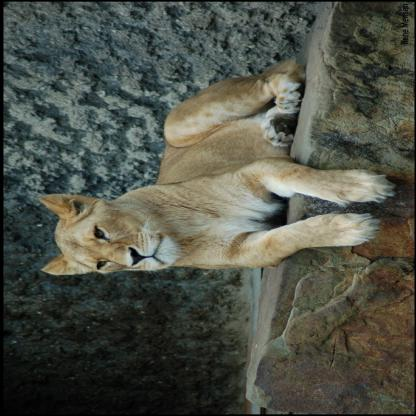lion: (34, 191, 188, 281)
